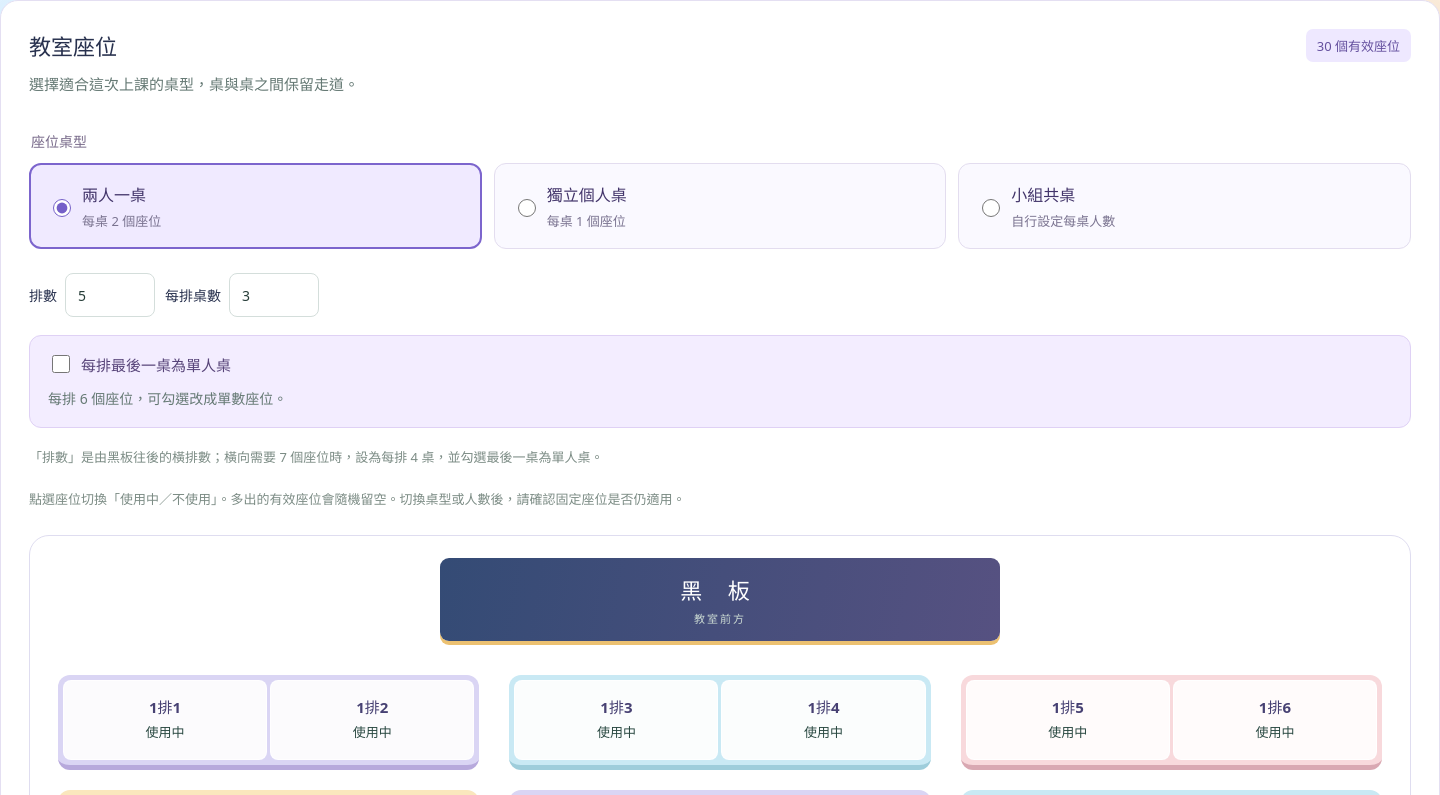
Test case: 教室座位數字輸入 › 排數輸入「」離開時恢復原設定
Clear the number field labelled "排數" at (110, 295), box [65,273,155,317]
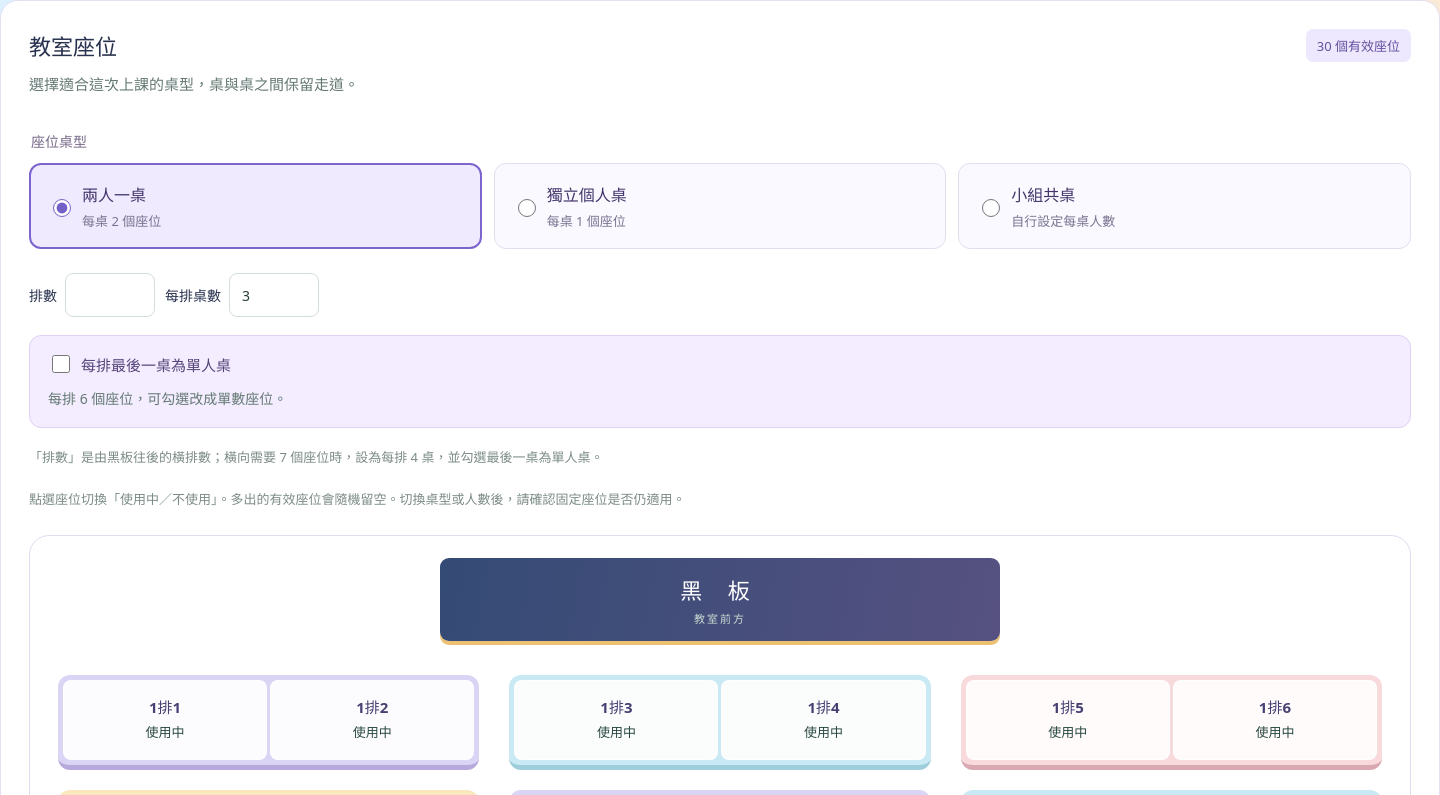
Check: the text "30 個有效座位" is shown, box [1306,29,1411,62]
Leave the number field labelled "排數", box [65,273,155,317]
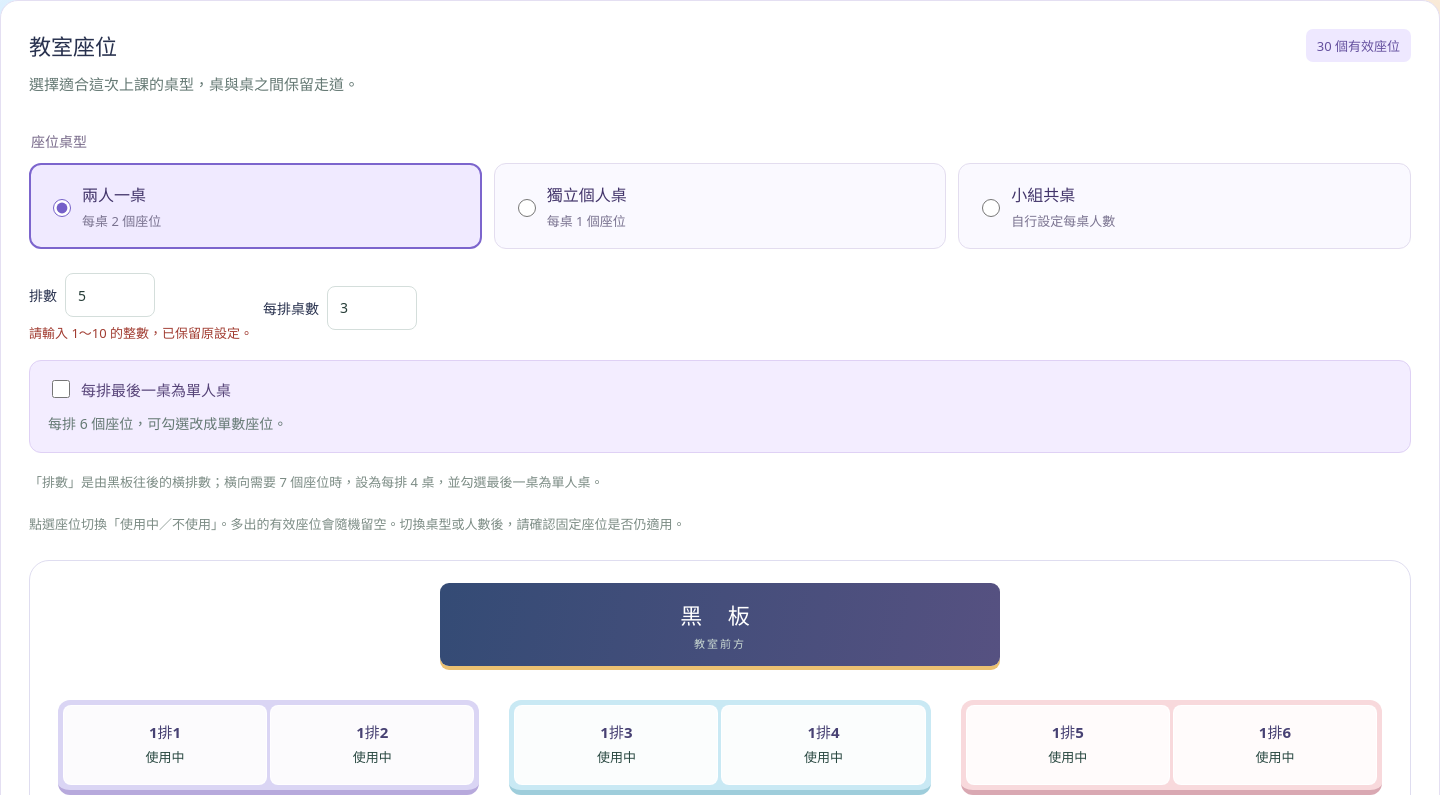
Check: the number field labelled "排數" holds "5", box [65,273,155,317]
Check: the message shows "1～10", box [29,323,253,342]
